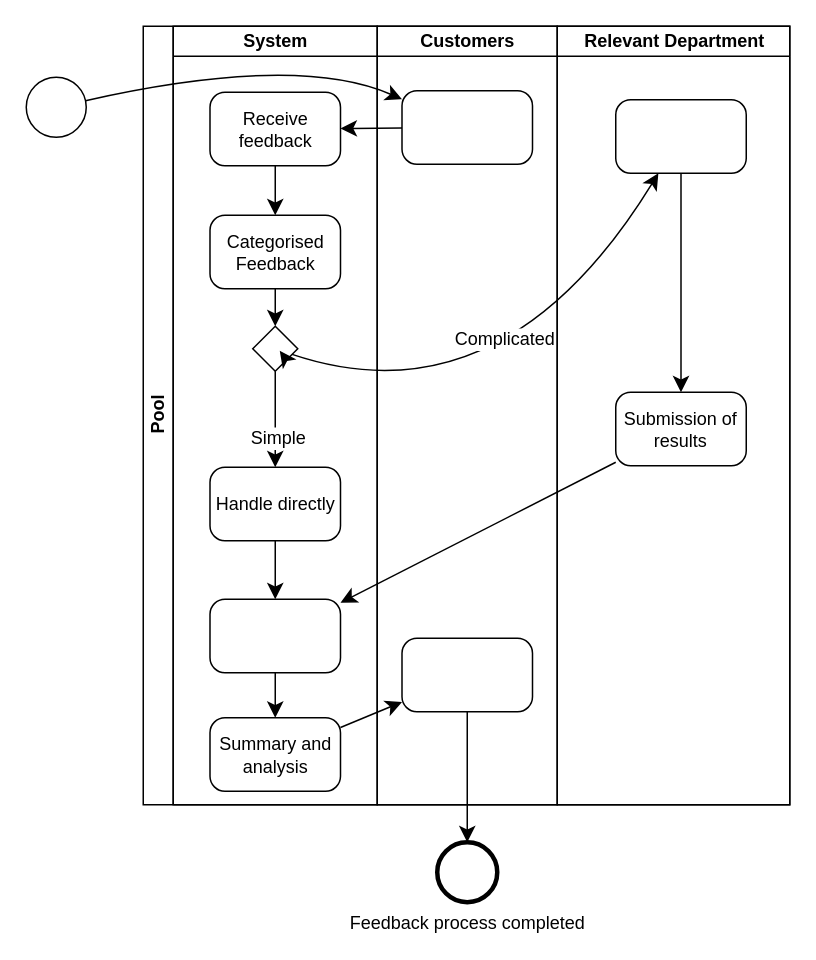
Some shapes in this 816 by 960 pixel diagram are drawn without their labels. Here are the shapes that lost their labels. From the top down, the centre of each, then its label:
At [466,126]: "Submit Feedback".
At [680,135]: "Feedback on investigation and processing".
At [274,348]: "Determine the level of feedback".
At [274,635]: "Notification of results".
At [466,674]: "Receive notification of results".
